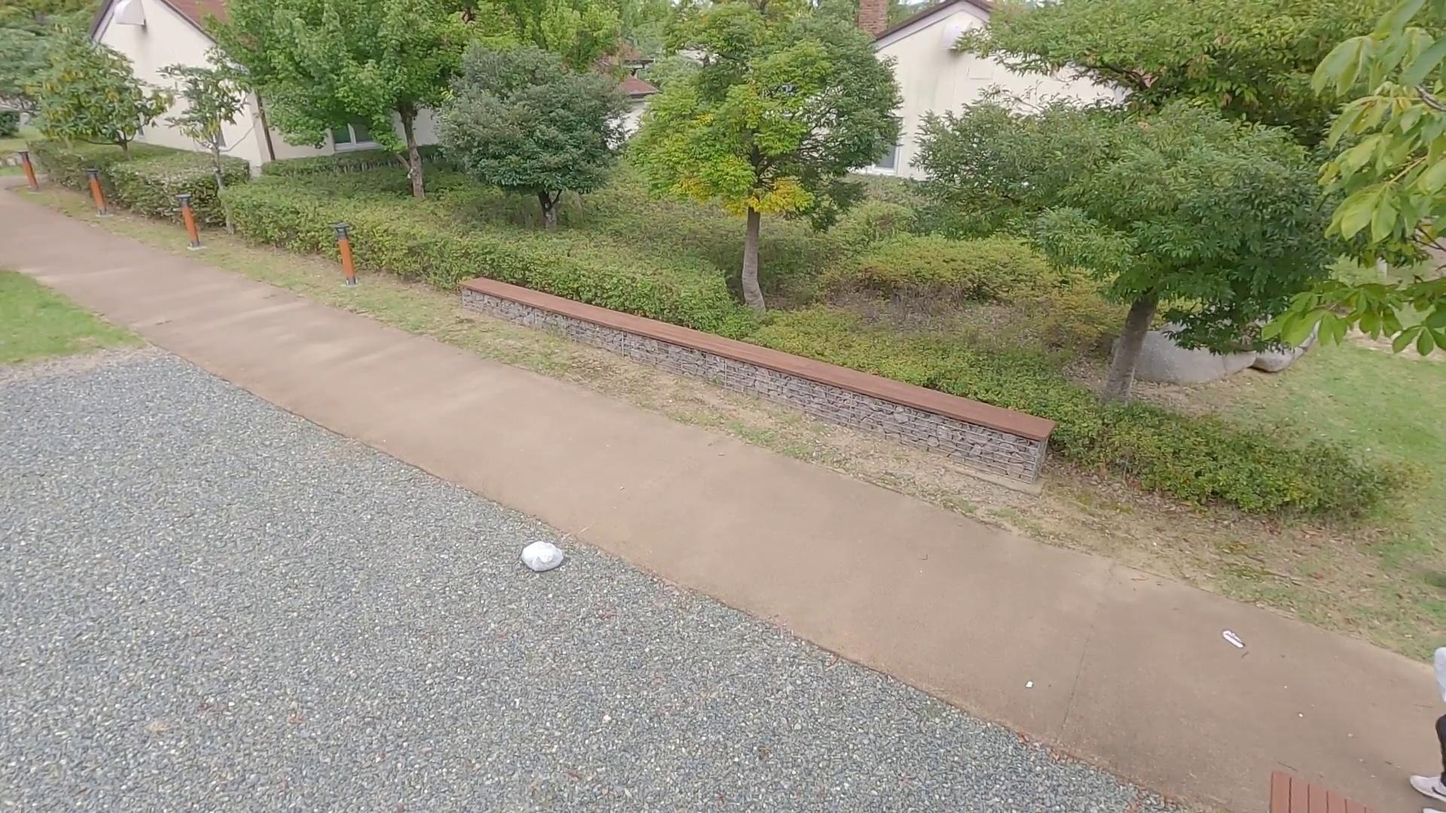trash: (519, 537, 572, 578)
